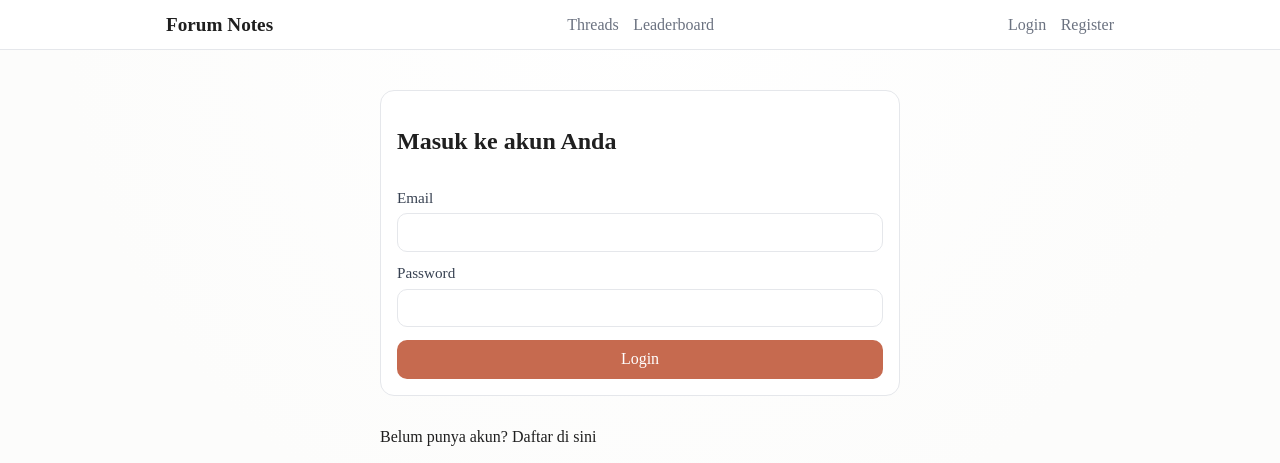
it: Login flow › should login successfully and redirect to home
Type "test@example.com" into the field with id "email". click: coordinates (640, 233)
box: x1=397 y1=213 x2=883 y2=252
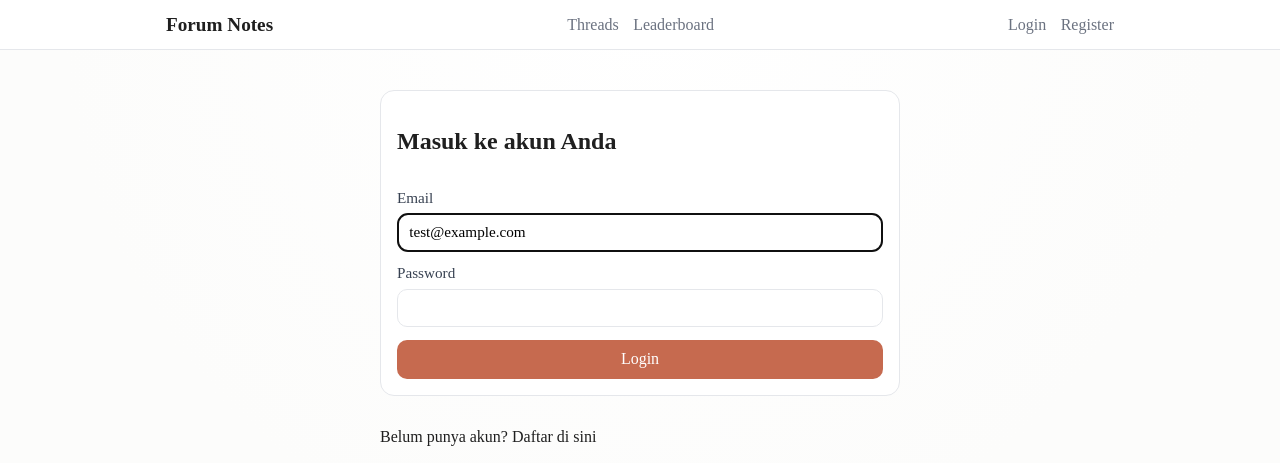
Type "password123" into the password field labelled "Password". click: coordinates (640, 309)
box: x1=397 y1=289 x2=883 y2=328
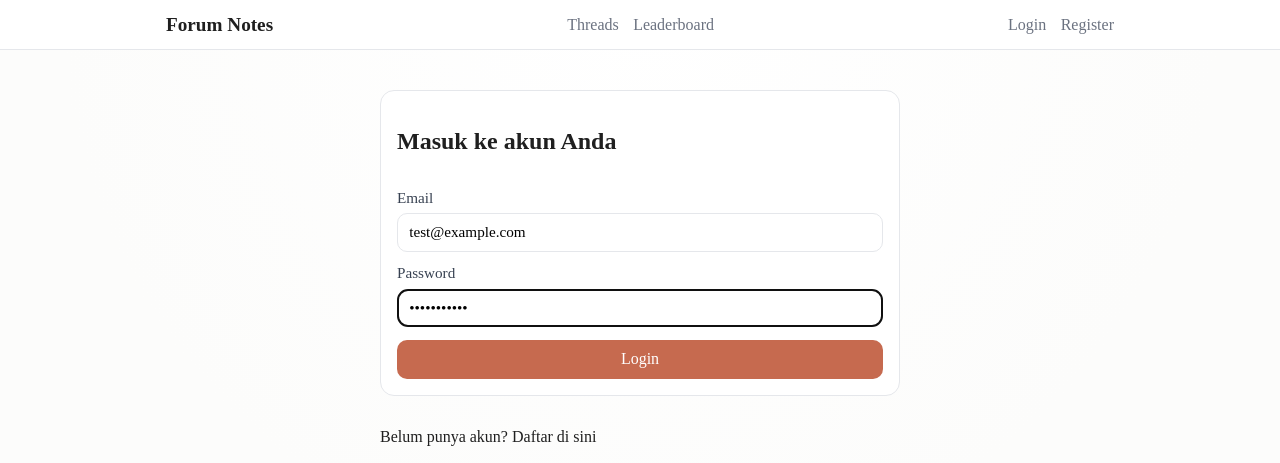
Click the submit button. click: coordinates (640, 360)
box: x1=397 y1=340 x2=883 y2=379
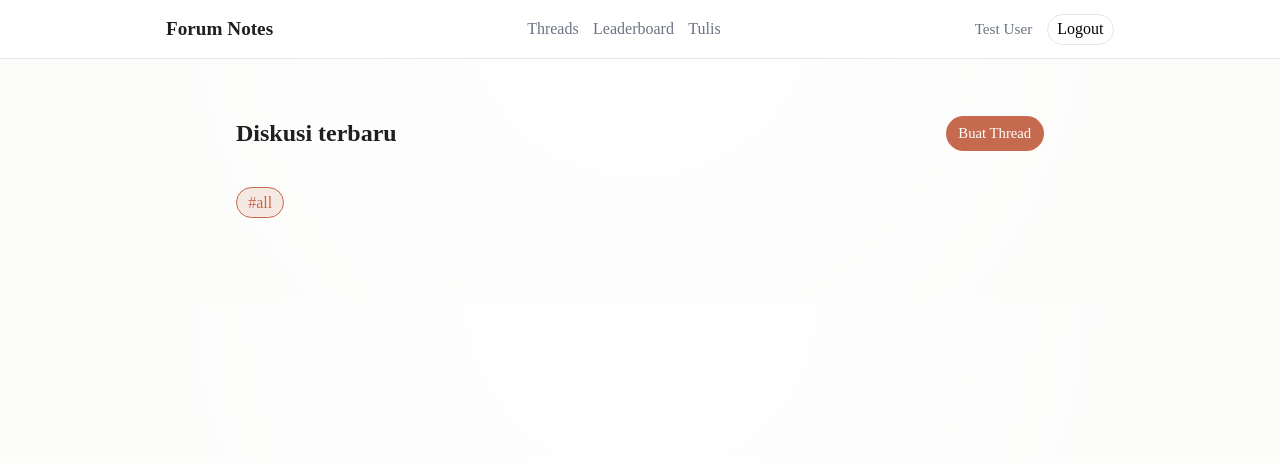
Check: the button "Logout" is shown, box x1=1047 y1=14 x2=1114 y2=45
Check: the text "Test User" is shown, box x1=975 y1=20 x2=1032 y2=38
